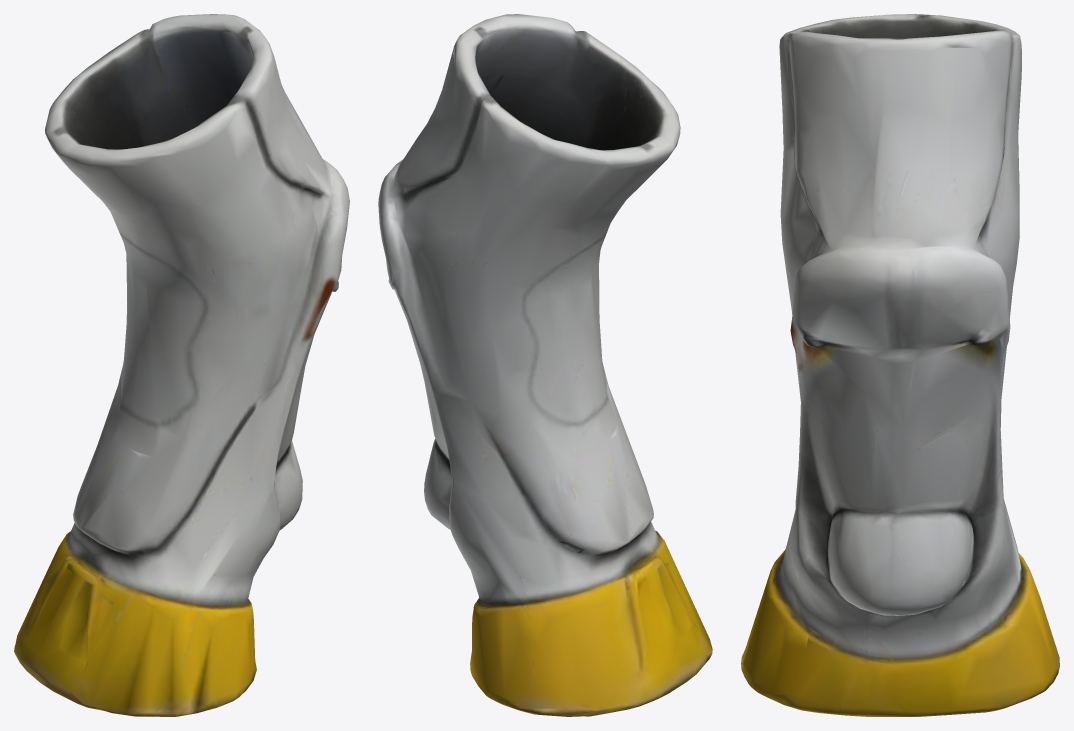
File: leg_rl_lo.glb
3 renders of one model, left to right at view 1: azimuth 30°, elevation 25°; view 2: azimuth 150°, elevation 25°; view 3: azimuth 270°, elevation 25°, orthographic. The views are drawn at different scales.
Bounding box in the file's own units: 1.02 × 2 × 0.8289.
1 material, 1 textured.
